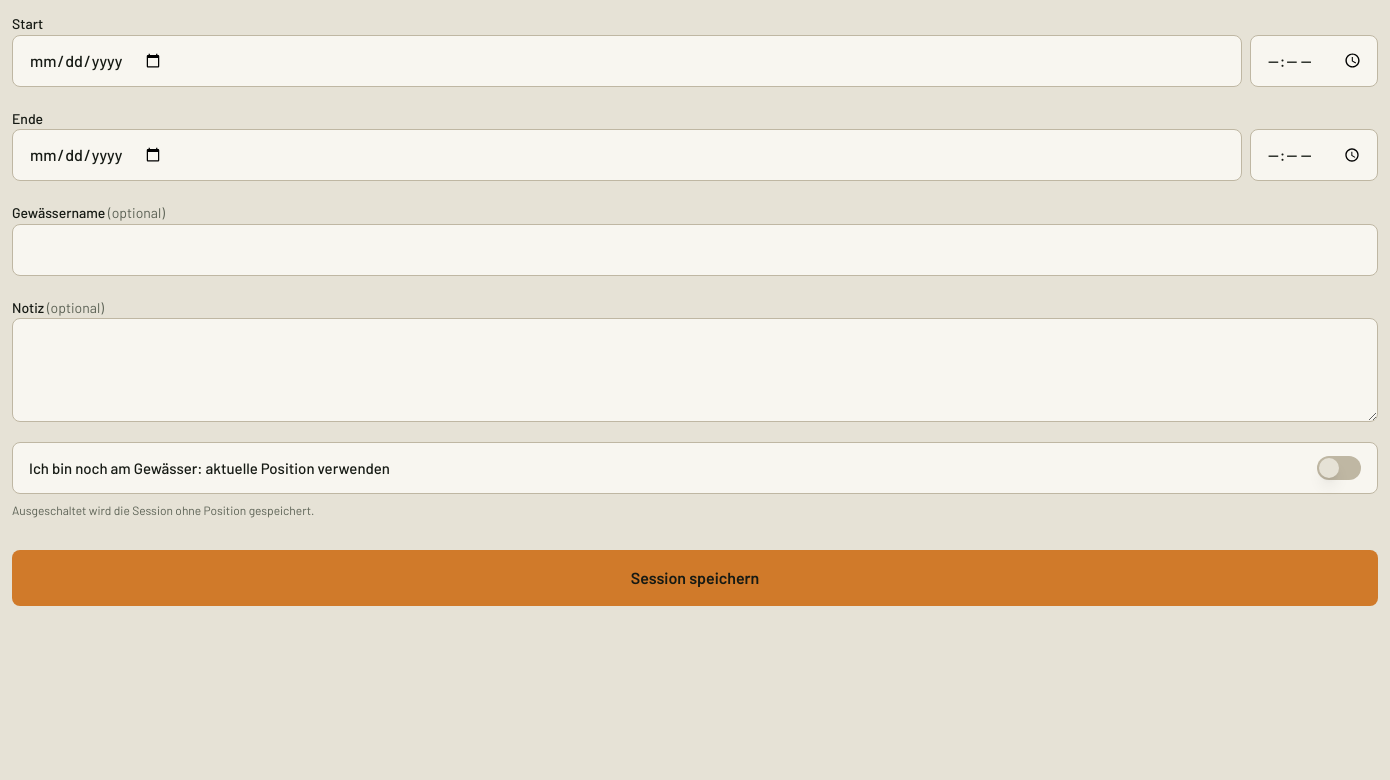
SessionBackfillForm › requires both times
What coordinates should you click on to do the following:
click the button "Session speichern"
I would click on:
 (695, 578)
Its box is [12,550,1378,606].
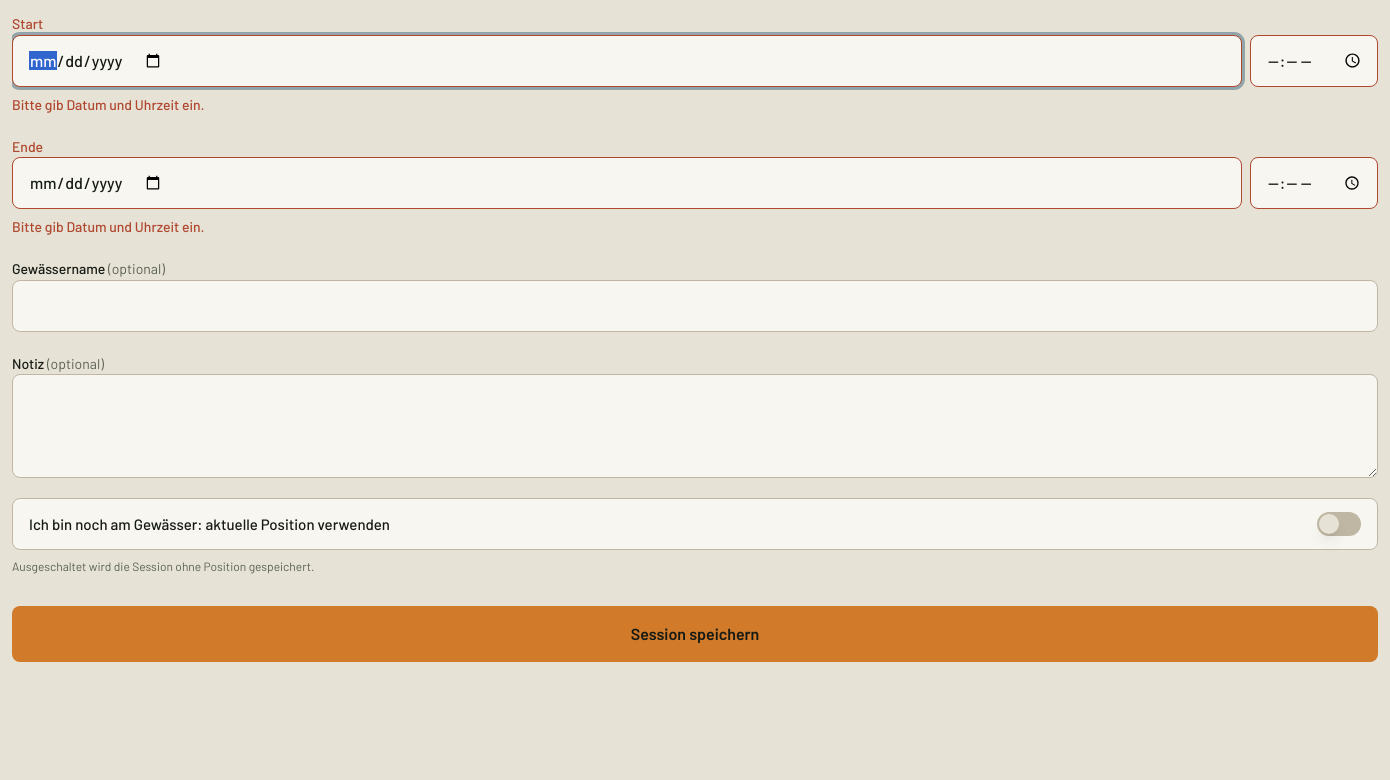
Expected: the text "Bitte gib Datum und Uhrzeit ein." is shown 2 times, [12,96,204,112]; [12,218,204,235]
